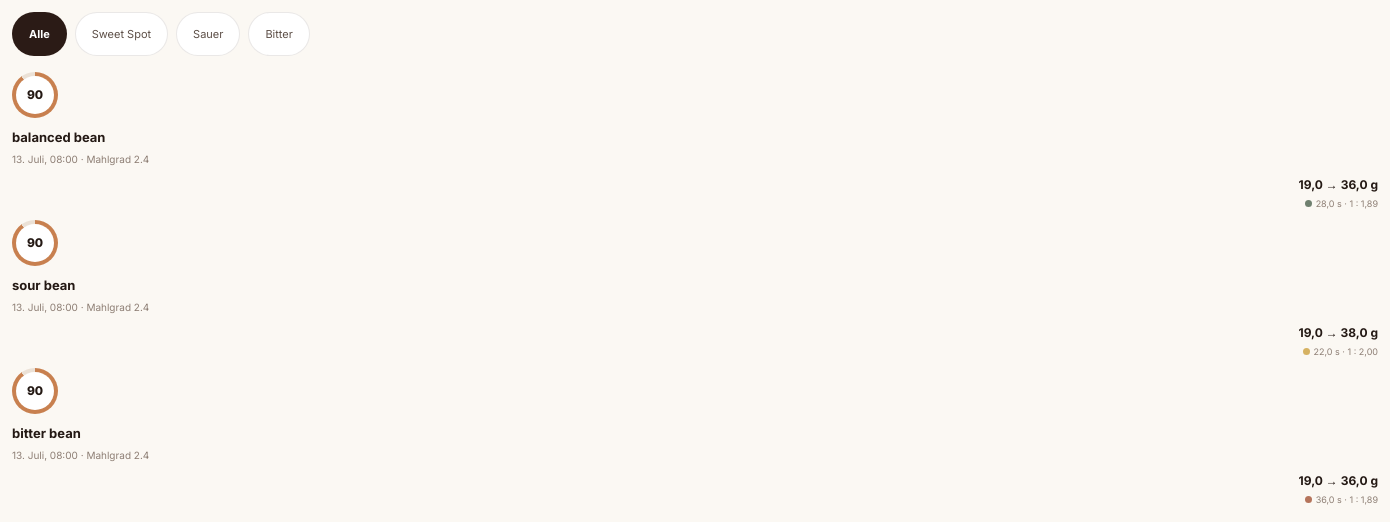
Test: Shot-Historie › filtert sauer und Sweet Spot
The width and height of the screenshot is (1390, 522).
Click the button "Sauer" at (208, 34), box x1=176 y1=12 x2=240 y2=56
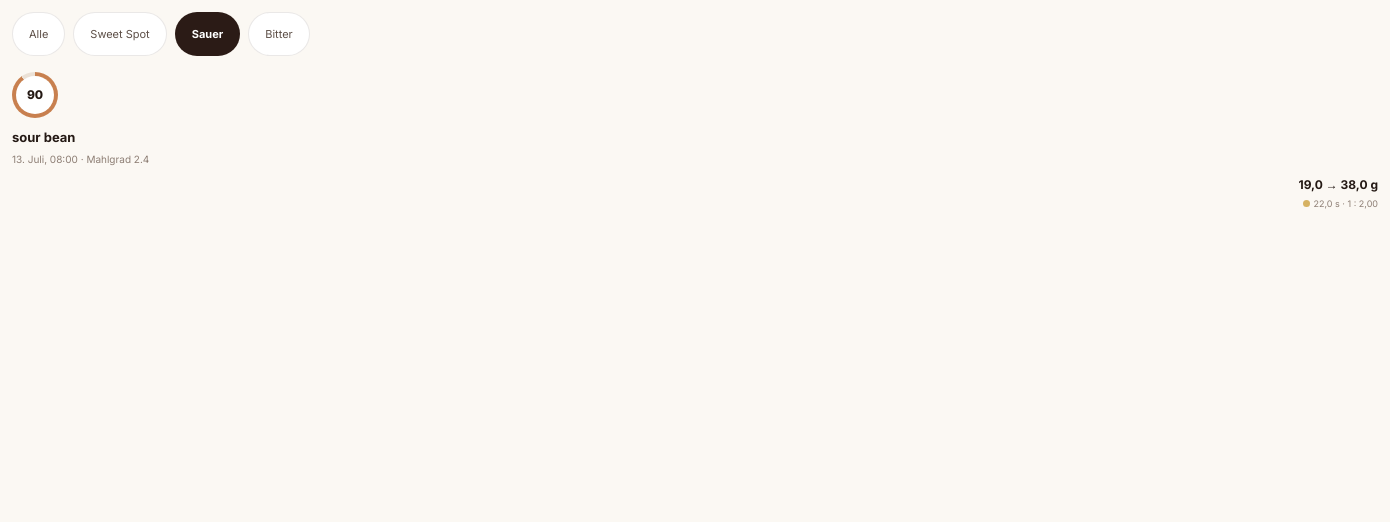
Expected: the text "sour bean" is shown, x1=12 y1=129 x2=75 y2=145
Expected: the text "balanced bean" is gone
Click the button "Sweet Spot" at (120, 34), box x1=73 y1=12 x2=167 y2=56
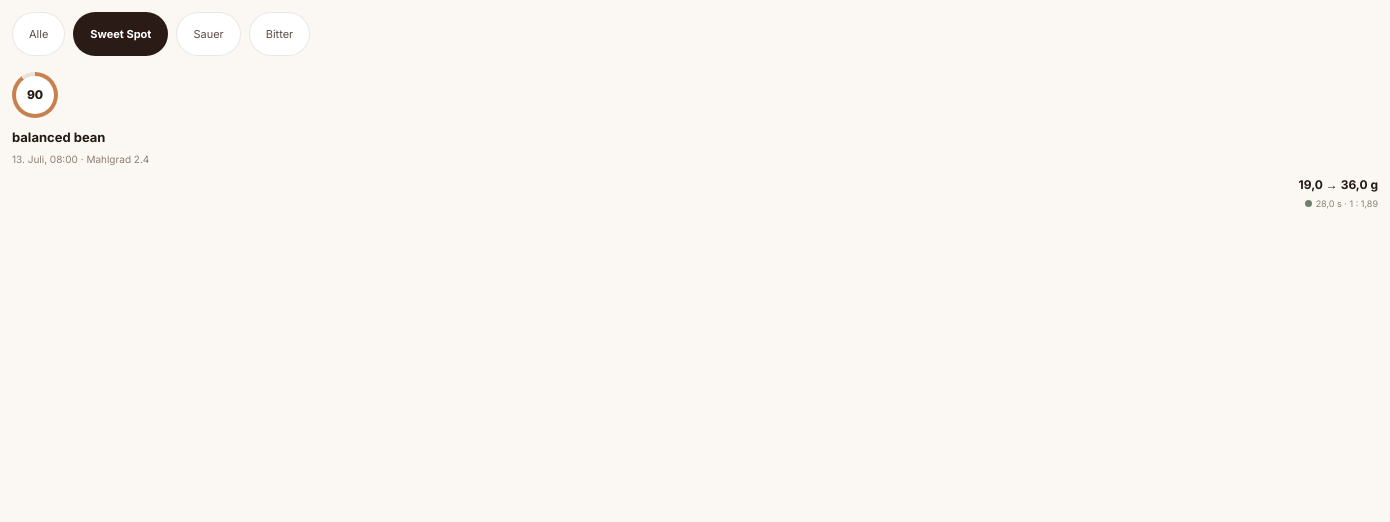
Expected: the text "balanced bean" is shown, x1=12 y1=129 x2=105 y2=145
